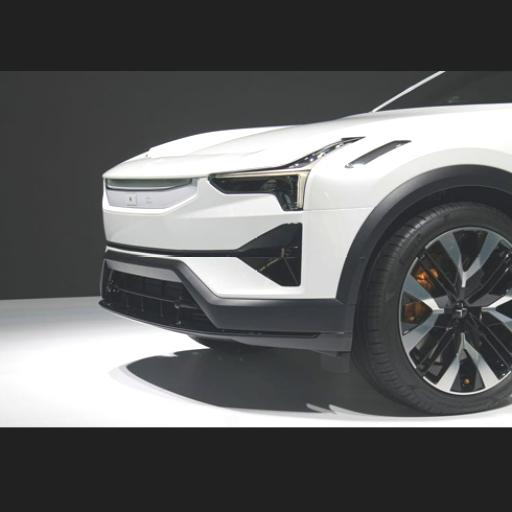suv: (101, 71, 512, 412)
